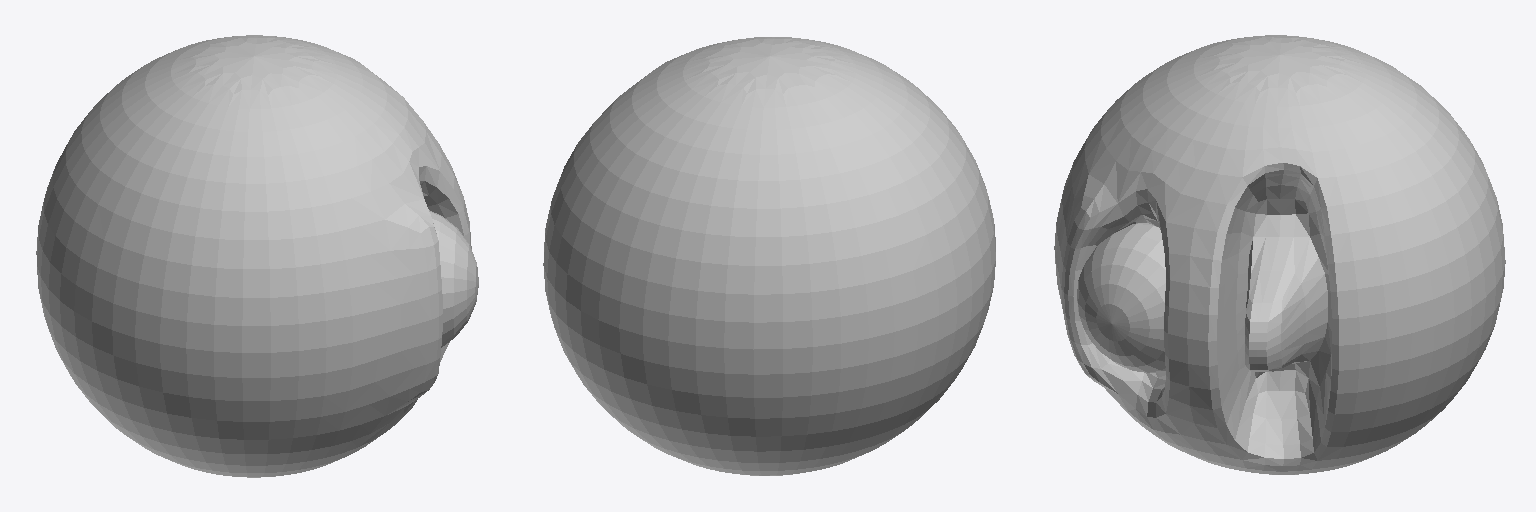
The model's file is BasicMonster.obj.
3 views of the same model, side by side, from view 1: azimuth 30°, elevation 25°; view 2: azimuth 150°, elevation 25°; view 3: azimuth 270°, elevation 25° (orthographic).
Bounding box in the file's own units: 0.759 × 0.751 × 0.7677.